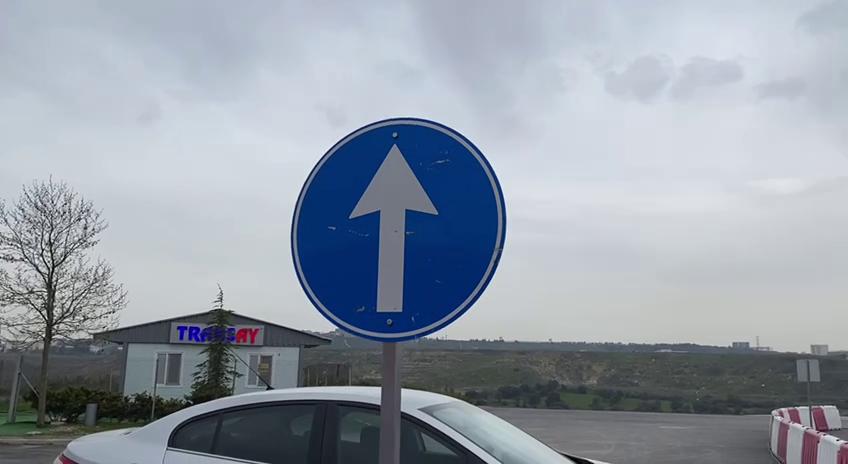forward: (284, 109, 515, 346)
